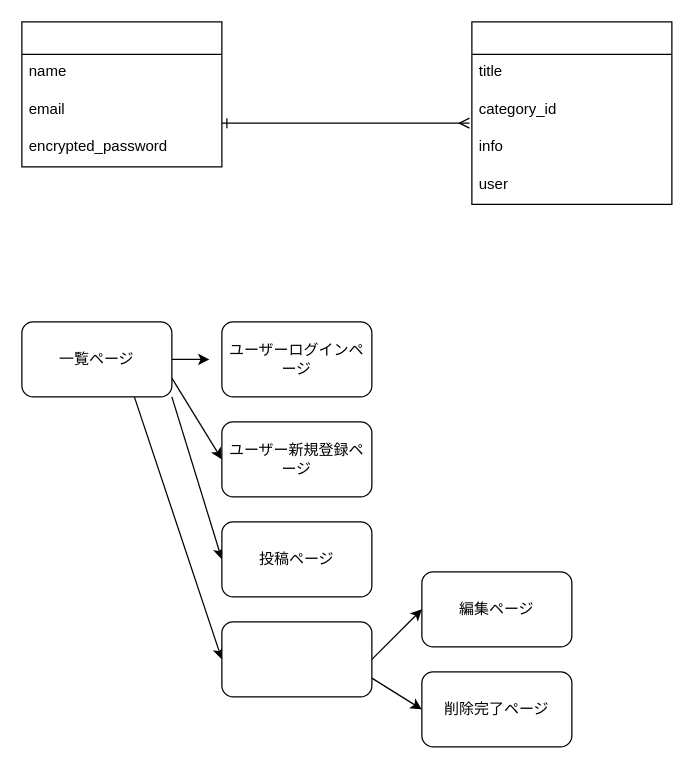
Some shapes in this 694 by 769 pixel diagram are drawn without their labels. Each missing label, with the box of its shape:
stuffs: (471, 21, 672, 204)
users: (21, 21, 222, 167)
詳細ページ: (221, 621, 372, 697)
